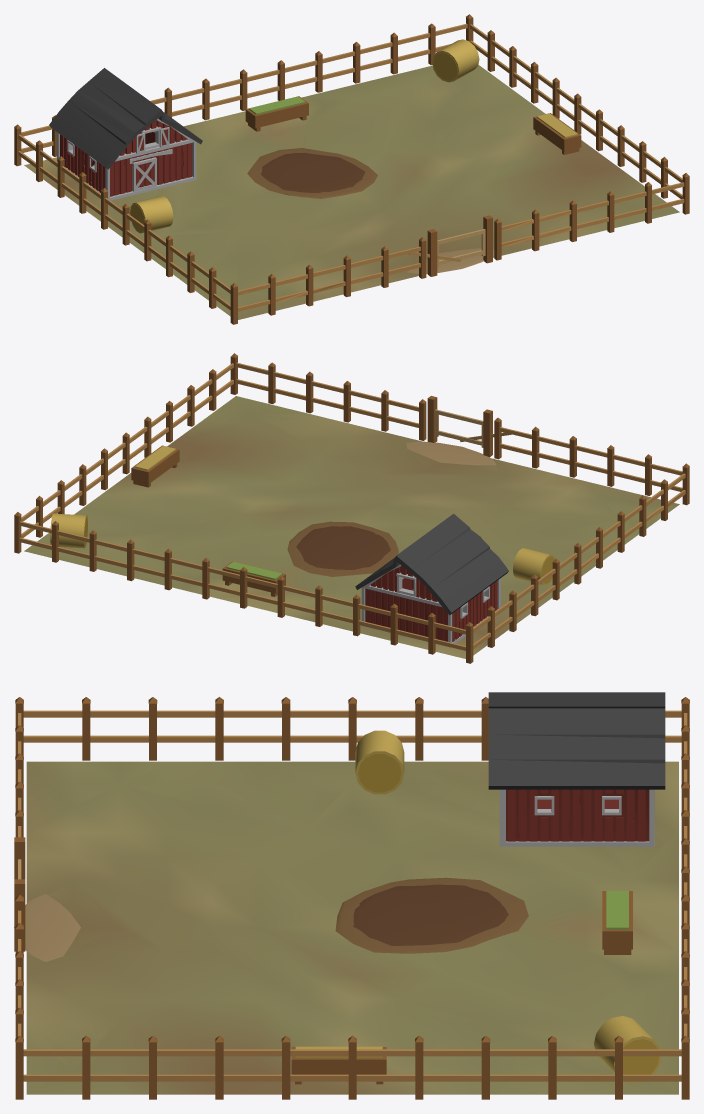
File: pig_pen-g2.glb
The picture shows the model from 3 angles, top to bottom: view 1: azimuth 30°, elevation 25°; view 2: azimuth 150°, elevation 25°; view 3: azimuth 270°, elevation 25°; orthographic projection. The views are drawn at different scales.
Parts seen in each view (by area): view 1: home-pig_pen-g2-far, home-pig_pen-g2; view 2: home-pig_pen-g2-far, home-pig_pen-g2; view 3: home-pig_pen-g2-far, home-pig_pen-g2.
Boxes of the visible parts, x1,y1,x2,y2 form: home-pig_pen-g2-far: (14, 18, 689, 324); home-pig_pen-g2: (14, 14, 689, 323); home-pig_pen-g2-far: (24, 357, 689, 662); home-pig_pen-g2: (14, 353, 689, 663); home-pig_pen-g2-far: (14, 692, 689, 1099); home-pig_pen-g2: (14, 692, 689, 1099).
Size of the model in its own units: 11.93 by 2.09 by 9.95.
